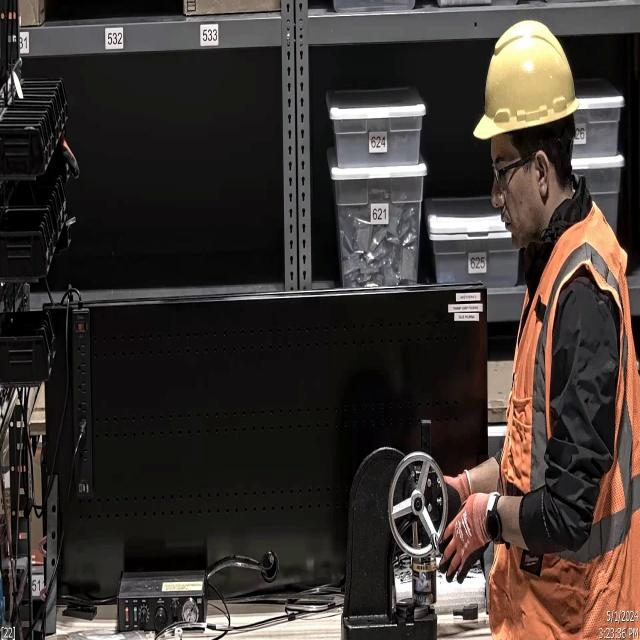construction-gloves: (440, 494, 487, 586)
